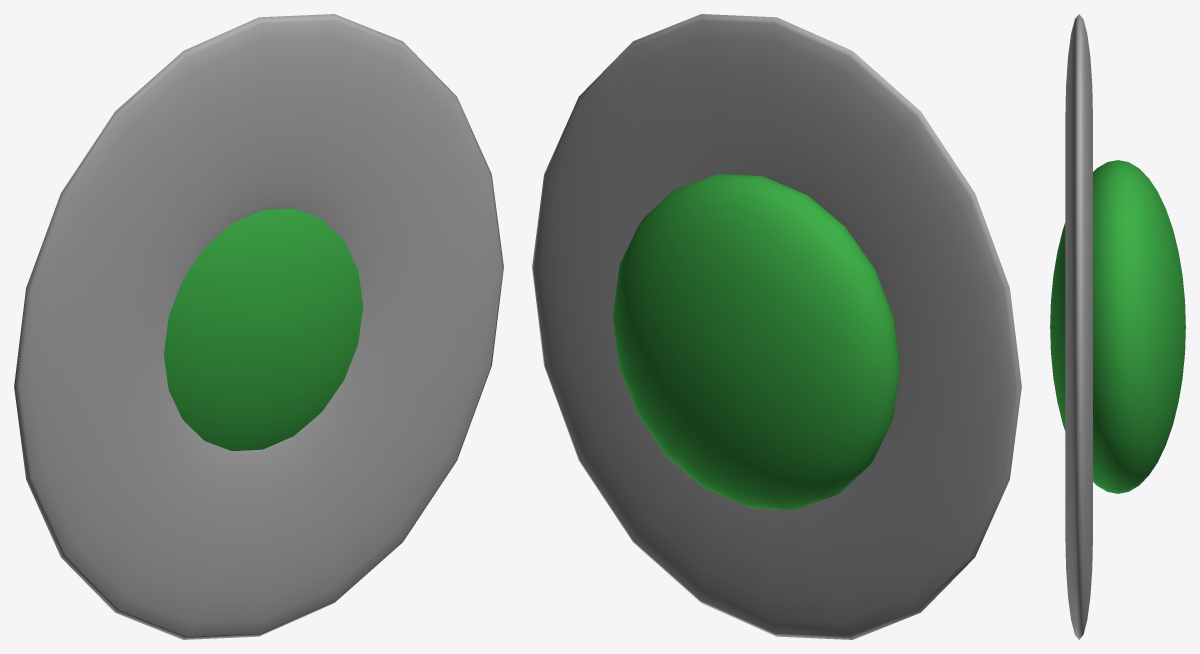
Rendered from boton2.fbx.
3 renders of one model, left to right at view 1: azimuth 30°, elevation 25°; view 2: azimuth 150°, elevation 25°; view 3: azimuth 270°, elevation 25°, orthographic. The views are drawn at different scales.
Visible parts, largest first — view 1: pasted__pasted__polySurface49; view 2: pasted__pasted__polySurface49; view 3: pasted__pasted__polySurface49.
Boxes of the visible parts, left/top/right/bottom form: pasted__pasted__polySurface49: left=14, top=14, right=503, bottom=639; pasted__pasted__polySurface49: left=532, top=14, right=1021, bottom=639; pasted__pasted__polySurface49: left=1050, top=14, right=1185, bottom=639.
Size of the model in its own units: 6.99 by 8.45 by 1.78.
